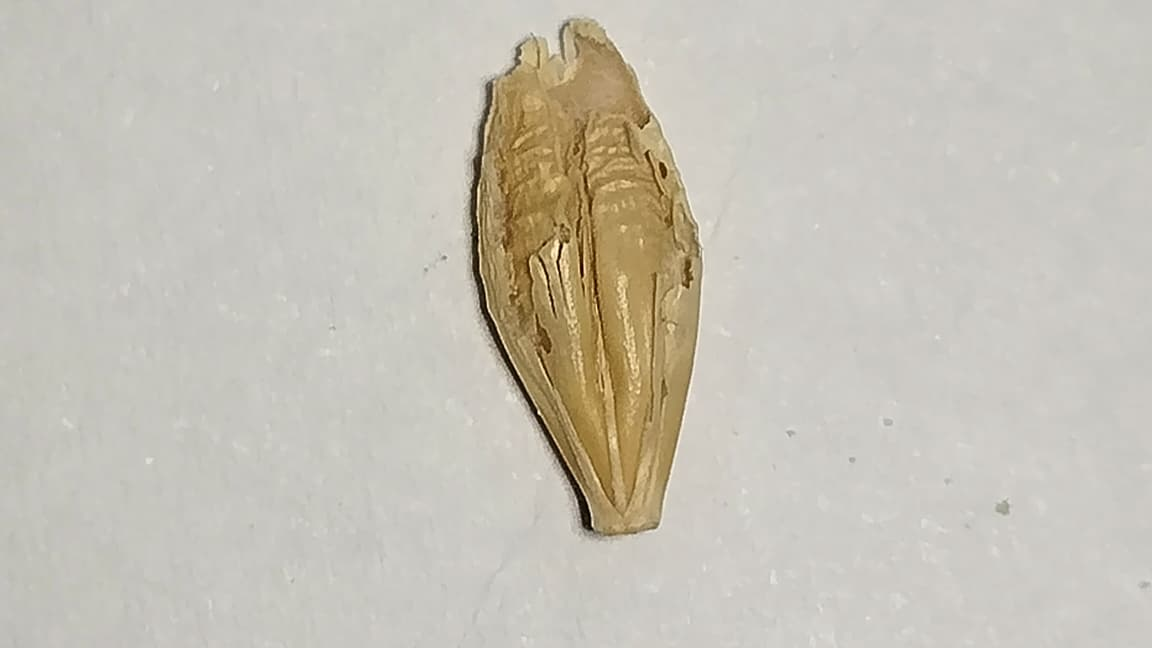damage: (477, 38, 700, 534)
insectdamage: (490, 258, 592, 363), (554, 42, 648, 126), (504, 16, 609, 88)
shriveledseed: (480, 119, 668, 255)
